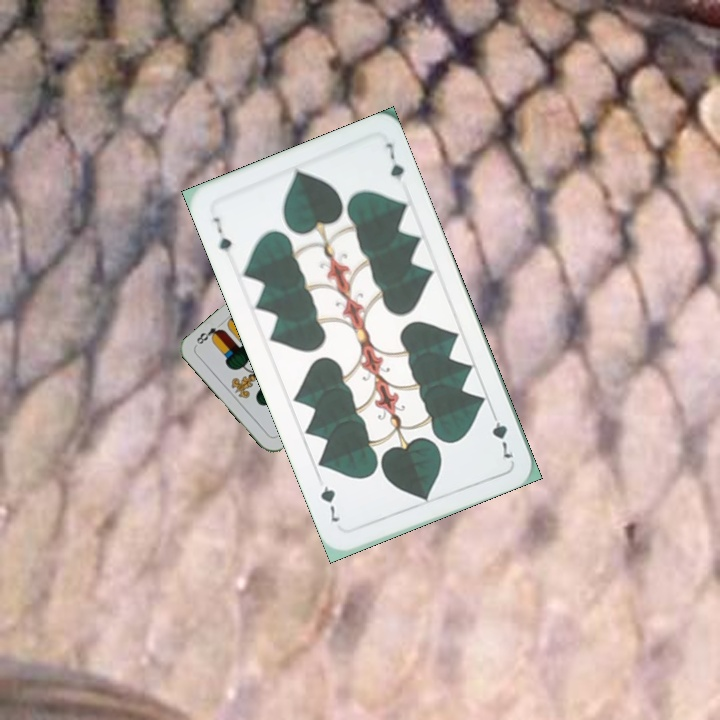G7: (486, 406, 516, 461), (209, 213, 235, 255)
